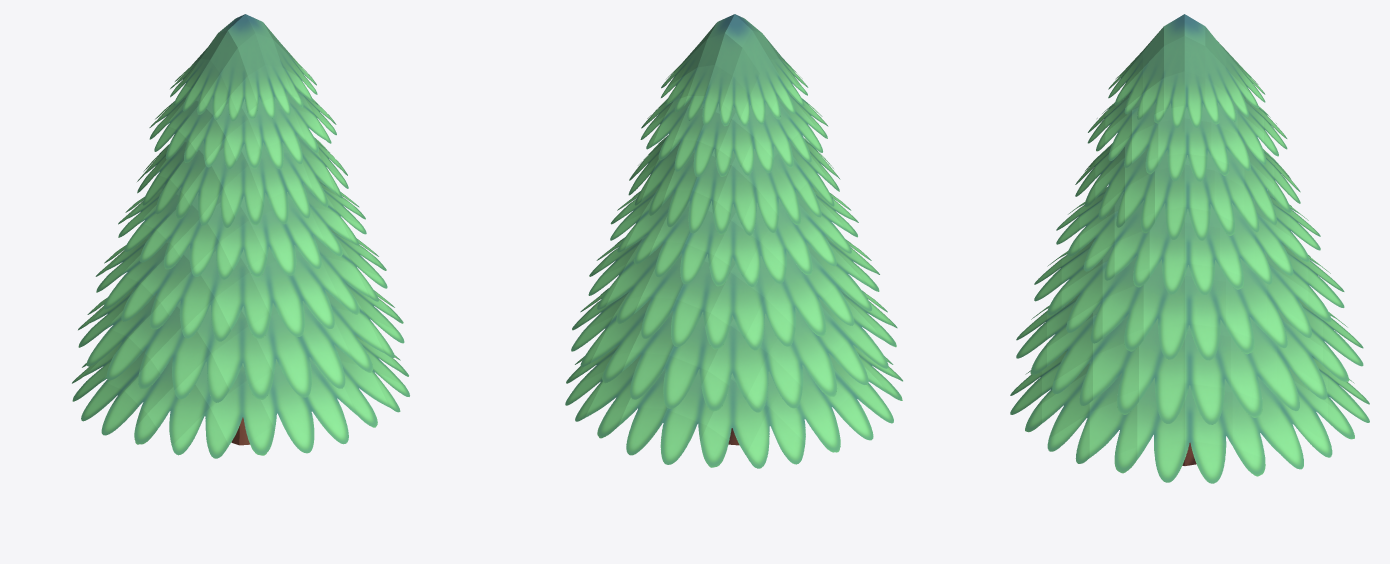
The model's file is fir.fbx.
3 renders of one model, left to right at view 1: azimuth 30°, elevation 25°; view 2: azimuth 150°, elevation 25°; view 3: azimuth 270°, elevation 25°, orthographic. The views are drawn at different scales.
Parts seen in each view (by area): view 1: Fir.001; view 2: Fir.001; view 3: Fir.001.
Part boxes in pixels (<box>): Fir.001: <box>72,14,409,458</box>; Fir.001: <box>565,14,902,468</box>; Fir.001: <box>1010,14,1369,483</box>.
Size of the model in its own units: 92.23 by 121 by 90.41.
